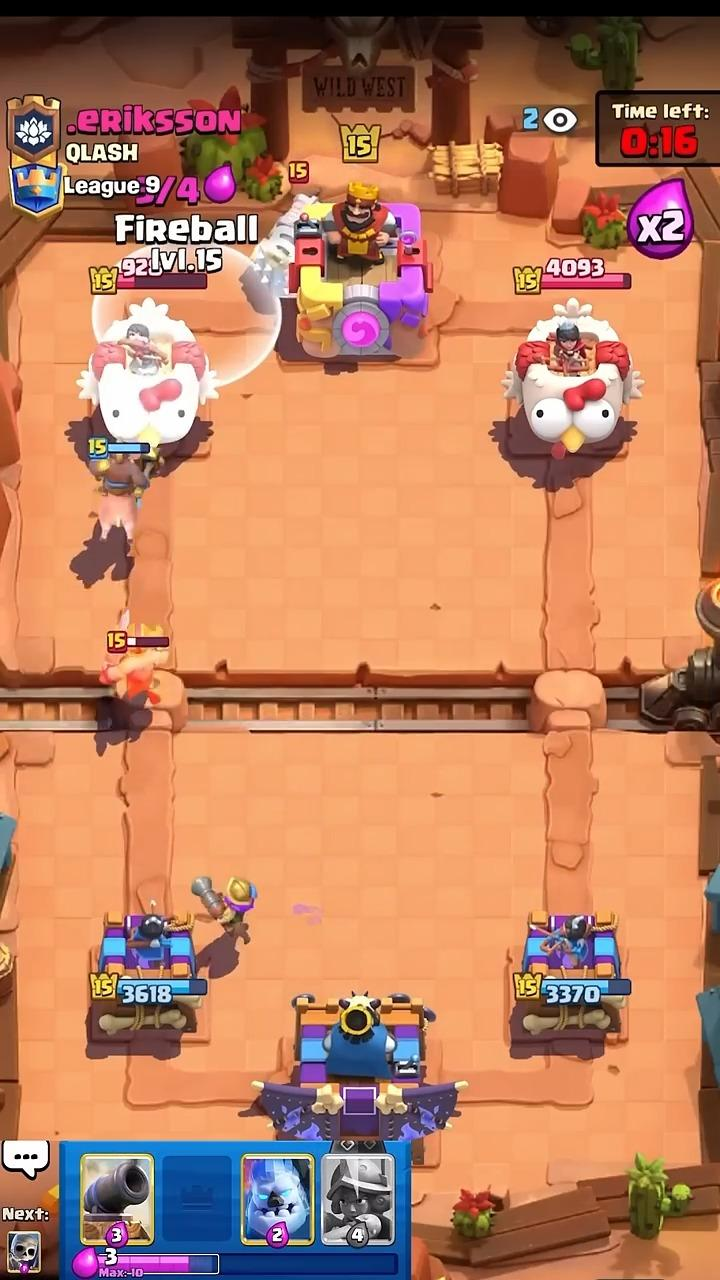elite barbarians: (100, 611, 168, 709)
hog rider: (91, 454, 148, 552)
musketeer: (192, 877, 254, 944)
sparky: (251, 195, 313, 295)
